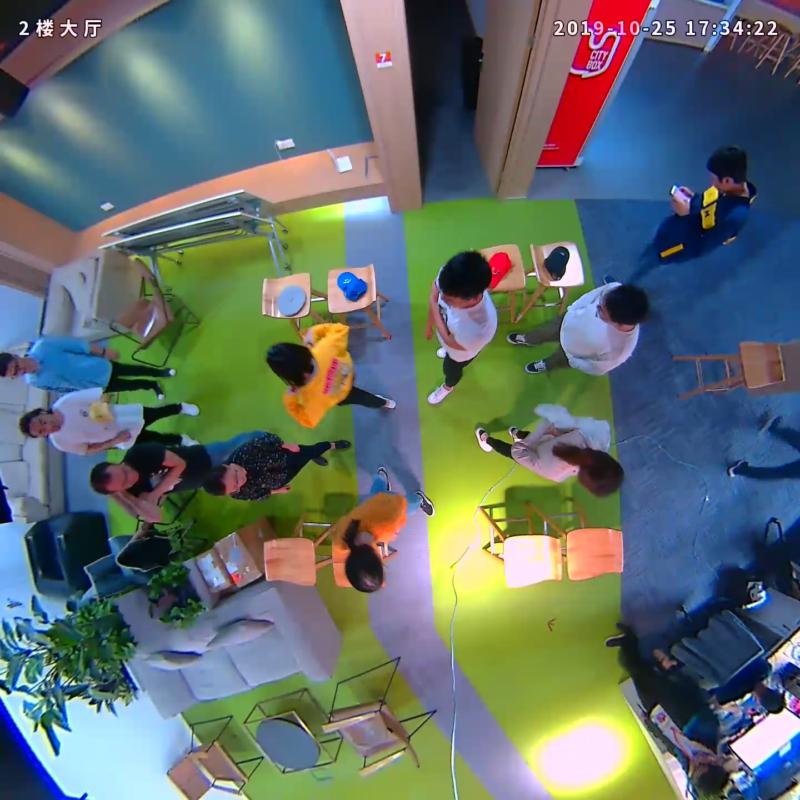head: (437, 251, 493, 309), (578, 448, 623, 497), (597, 283, 648, 326), (344, 543, 384, 595), (688, 751, 731, 796), (89, 460, 142, 495), (707, 146, 748, 191), (267, 342, 313, 382), (203, 464, 247, 497), (20, 405, 61, 438), (1, 352, 31, 379)
